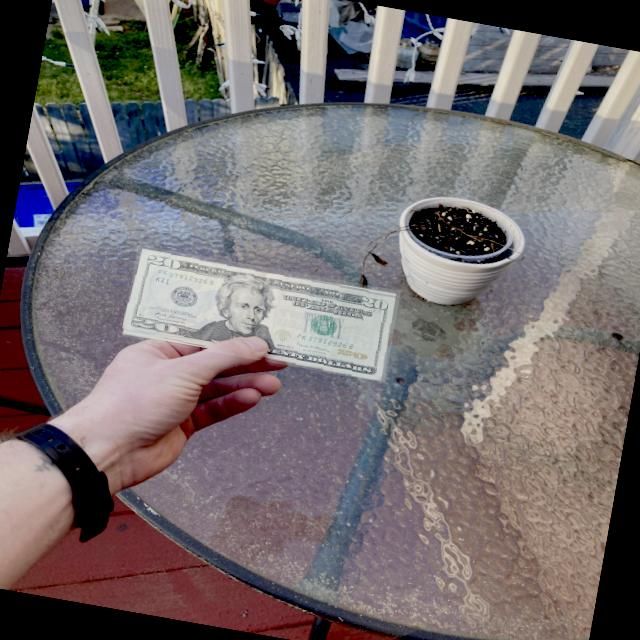twenty: (122, 244, 401, 382)
